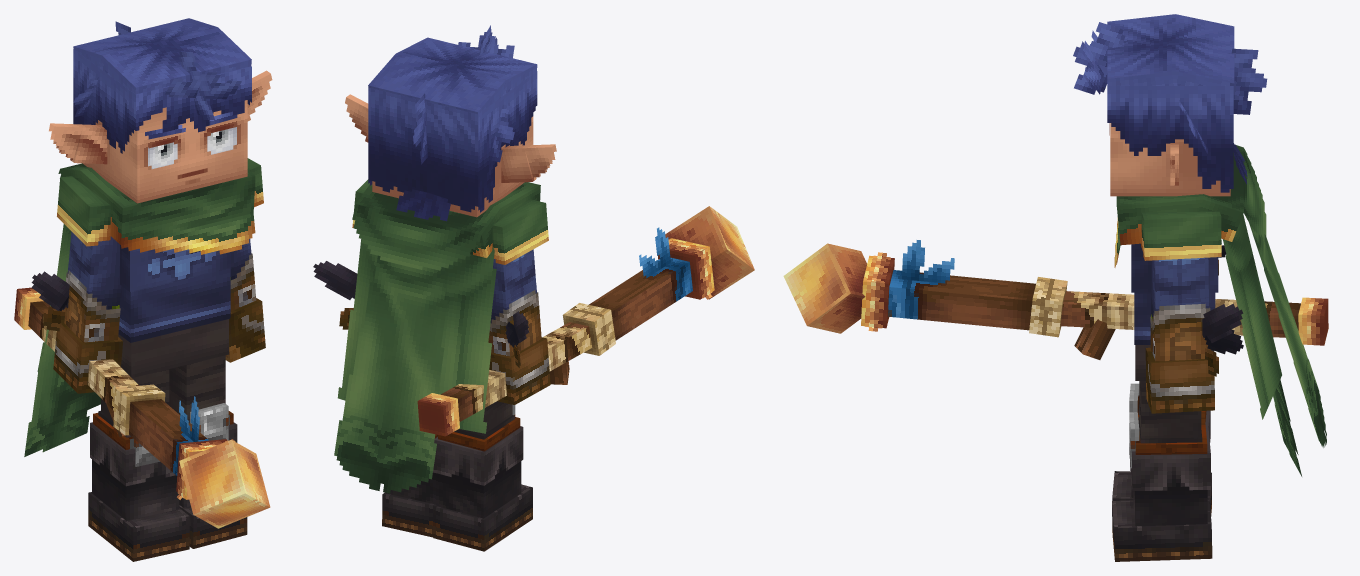
The picture shows the model from 3 angles, left to right: view 1: azimuth 30°, elevation 25°; view 2: azimuth 150°, elevation 25°; view 3: azimuth 270°, elevation 25°; orthographic projection. The views are drawn at different scales.
Parts seen in each view (by area): view 1: HairBase.mesh, Collar.mesh, Face.mesh, HeldItem.CopperHead4.mesh, BellyCostume.mesh, HairCut2.mesh, R-Boot.mesh, Cape3.mesh, Pants base.mesh, ChestPart.mesh, L-Boot3.mesh, CollarFold.mesh (+31 smaller); view 2: Cape1.mesh (×4), HairBase.mesh, Cape2.mesh (×3), Cape3.mesh, HairCut3.mesh, HeldItem.Handle2.mesh, L-Boot3.mesh (×2), HeldItem.CopperHead4.mesh, R-Boot.mesh, HairCut2.mesh, HeldItem.Handle.mesh, R-Boot2.mesh (+18 smaller); view 3: HairBase.mesh, HeldItem.Handle2.mesh, HeldItem.CopperHead4.mesh, Head.mesh, Cape2.mesh (×2), HairCut2.mesh, L-Boot.mesh, HairCut3.mesh, L-Shoulder-Pad.mesh, L-Glove.mesh, HeldItem.Handle.mesh, Cape1.mesh (×2) (+18 smaller).
Part boxes in pixels (x1,y1,x2,y2): HairBase.mesh: [73, 49, 251, 153]; Collar.mesh: [79, 167, 255, 245]; Face.mesh: [137, 100, 247, 203]; HeldItem.CopperHead4.mesh: [179, 439, 270, 528]; BellyCostume.mesh: [118, 267, 230, 340]; HairCut2.mesh: [101, 27, 251, 94]; R-Boot.mesh: [88, 492, 189, 561]; Cape3.mesh: [24, 360, 100, 456]; Pants base.mesh: [118, 319, 228, 377]; ChestPart.mesh: [120, 245, 233, 291]; L-Boot3.mesh: [92, 459, 179, 520]; CollarFold.mesh: [121, 213, 255, 254]; Cape1.mesh (×4): [352, 204, 496, 331]; HairBase.mesh: [368, 71, 537, 212]; Cape2.mesh (×3): [337, 299, 492, 435]; Cape3.mesh: [334, 413, 436, 493]; HairCut3.mesh: [368, 54, 505, 114]; HeldItem.Handle2.mesh: [589, 257, 692, 340]; L-Boot3.mesh (×2): [386, 461, 521, 518]; HeldItem.CopperHead4.mesh: [665, 206, 754, 299]; R-Boot.mesh: [433, 484, 532, 551]; HairCut2.mesh: [396, 37, 537, 94]; HeldItem.Handle.mesh: [441, 322, 592, 421]; R-Boot2.mesh: [434, 426, 523, 485]; HairBase.mesh: [1107, 81, 1233, 192]; HeldItem.Handle2.mesh: [888, 270, 1035, 330]; HeldItem.CopperHead4.mesh: [783, 243, 866, 333]; Head.mesh: [1110, 123, 1230, 196]; Cape2.mesh (×2): [1241, 259, 1305, 419]; HairCut2.mesh: [1107, 14, 1177, 85]; L-Boot.mesh: [1112, 498, 1212, 561]; HairCut3.mesh: [1175, 14, 1234, 85]; L-Shoulder-Pad.mesh: [1141, 211, 1221, 260]; L-Glove.mesh: [1145, 347, 1214, 413]; HeldItem.Handle.mesh: [1060, 291, 1300, 337]; Cape1.mesh (×2): [1222, 148, 1266, 314].
Bounding box in the file's own units: 4.43 × 8.3 × 8.17.
2 materials, 2 textured.
